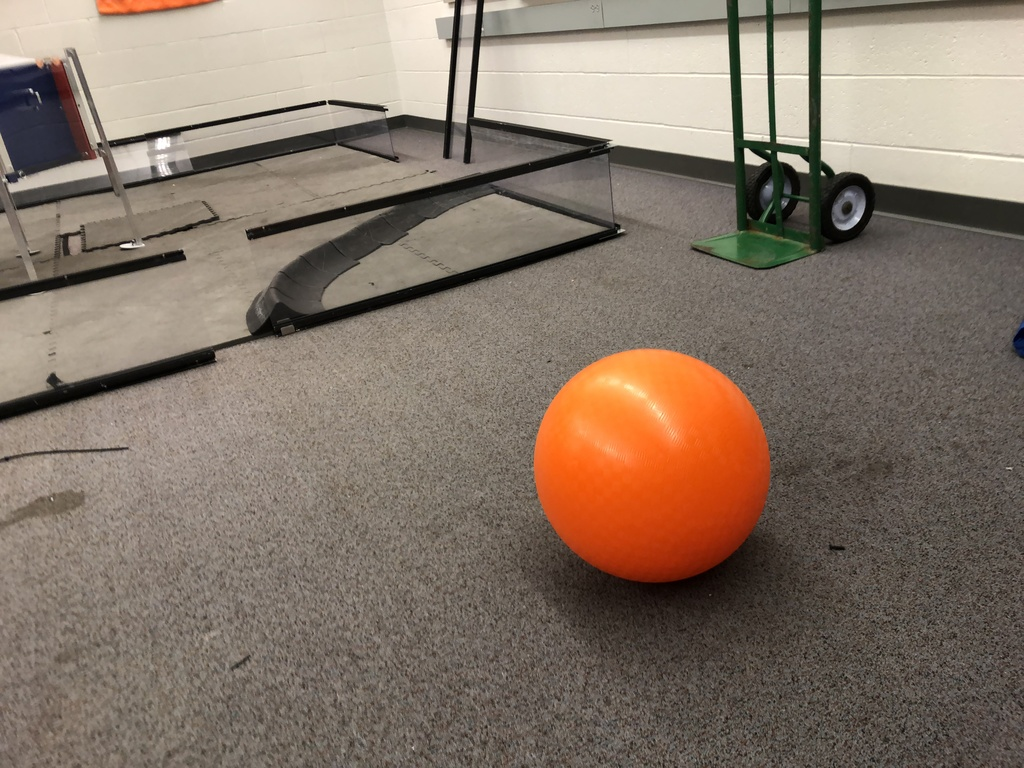cargo: (522, 340, 793, 600)
